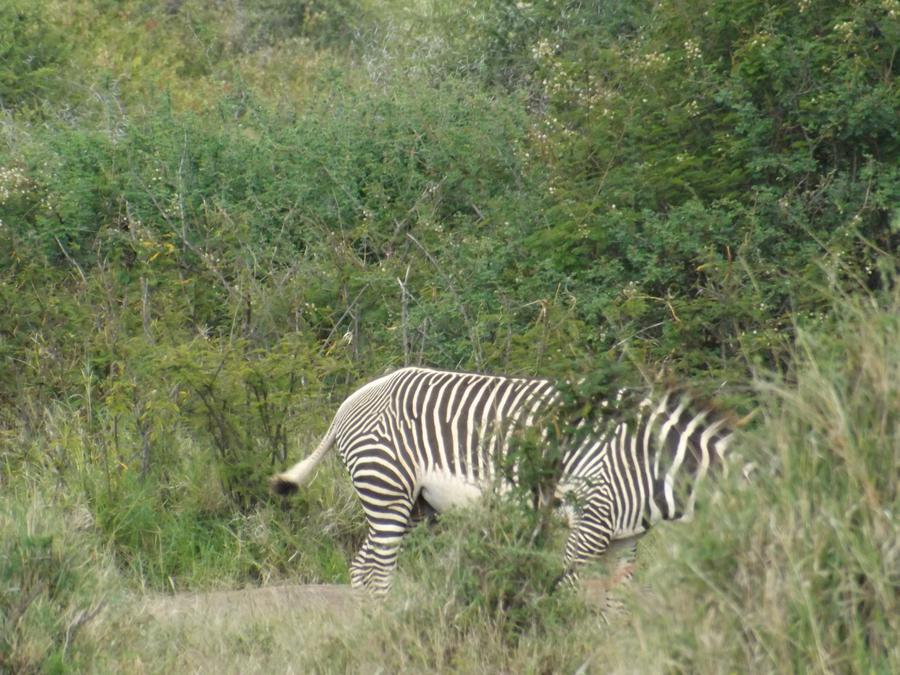zebra_grevys: (326, 348, 623, 540)
